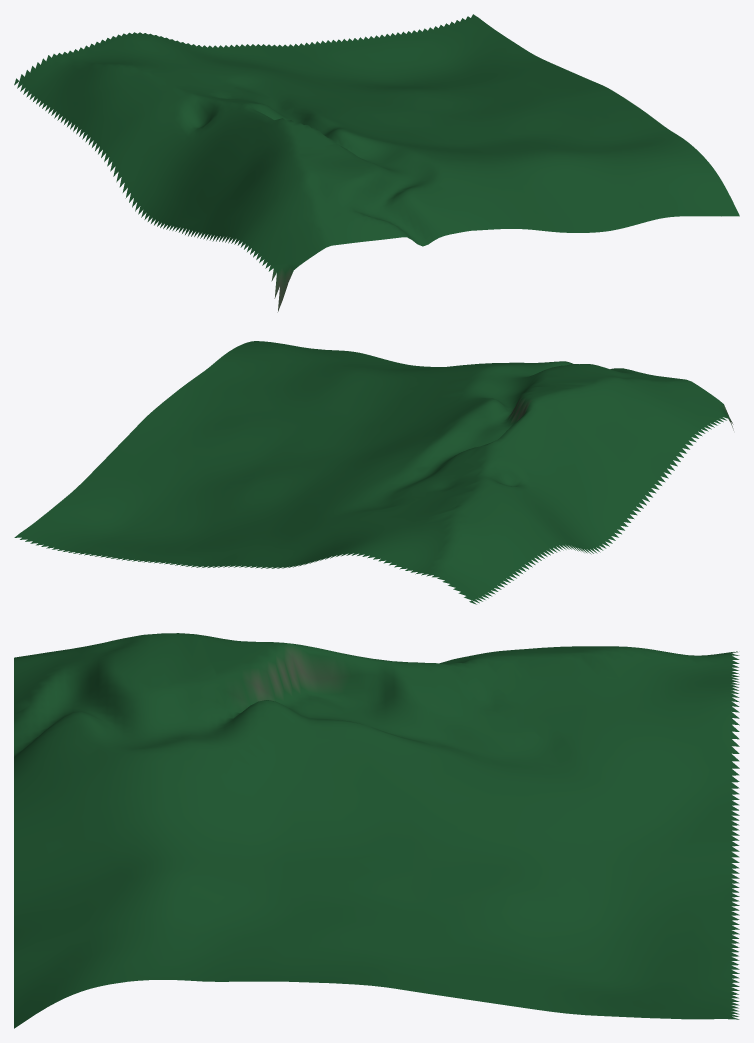
File: payo_land_xm2_ym1_lod1.glb
3 renders of one model, top to bottom at view 1: azimuth 30°, elevation 25°; view 2: azimuth 150°, elevation 25°; view 3: azimuth 270°, elevation 25°, orthographic. The views are drawn at different scales.
Visible parts, largest first — view 1: payo_land_xm2_ym1; view 2: payo_land_xm2_ym1; view 3: payo_land_xm2_ym1.
Boxes of the visible parts, bbox=[...] form: payo_land_xm2_ym1: bbox=[14, 14, 739, 312]; payo_land_xm2_ym1: bbox=[14, 341, 733, 604]; payo_land_xm2_ym1: bbox=[14, 633, 739, 1028].
Bounding box in the file's own units: 258 × 58.84 × 258.
